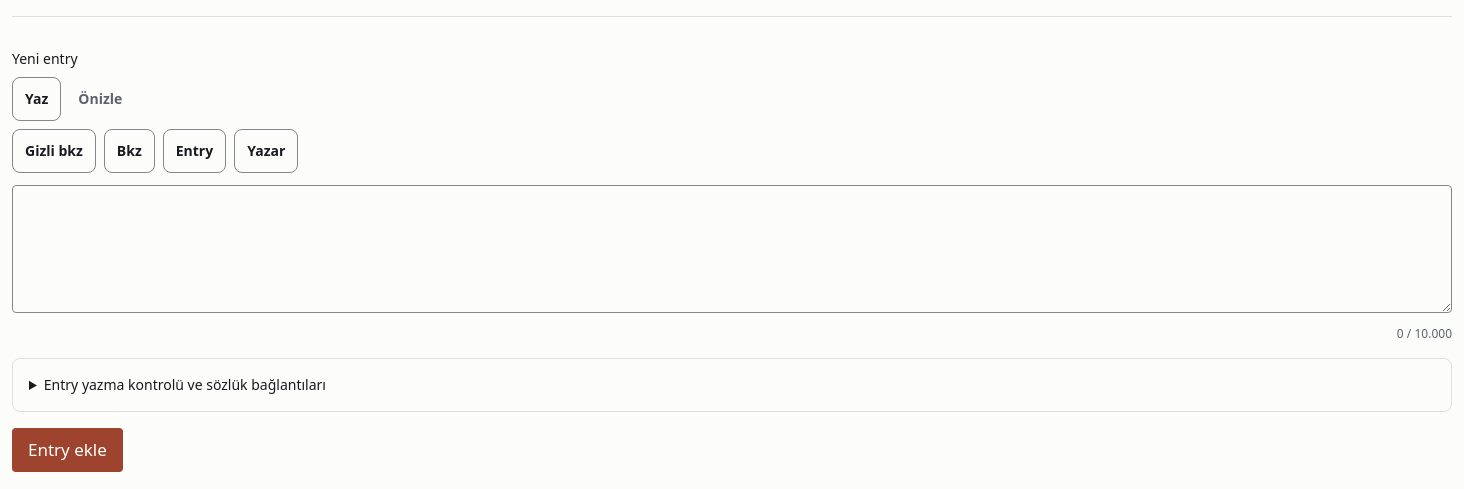
Scenario: composer önizleme render'ı › dört sözdizimini de istemcide çözümlenebildiği kadarıyla gösterir
Type "[ [açık kaynak]] ile (bkz: başka başlık) ve (bkz: #123) sonra @yazar ve https://example.com" into the text box labelled "Yeni entry" at (732, 249), box [12,185,1452,313]
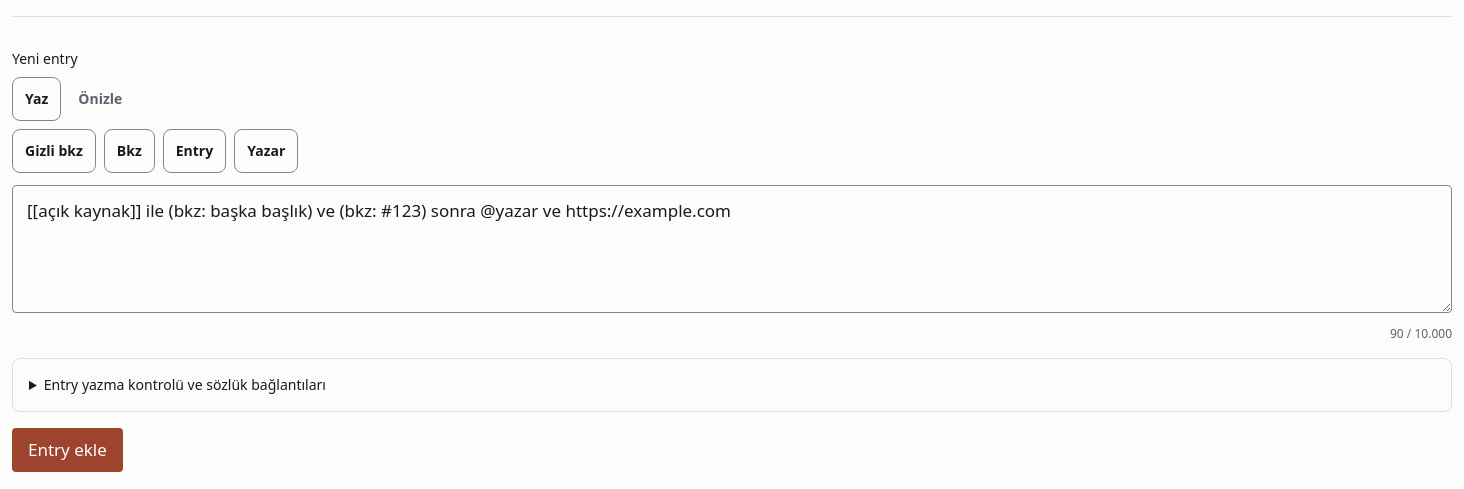
Click the tab "Önizle" at (100, 99), box [65,77,135,121]
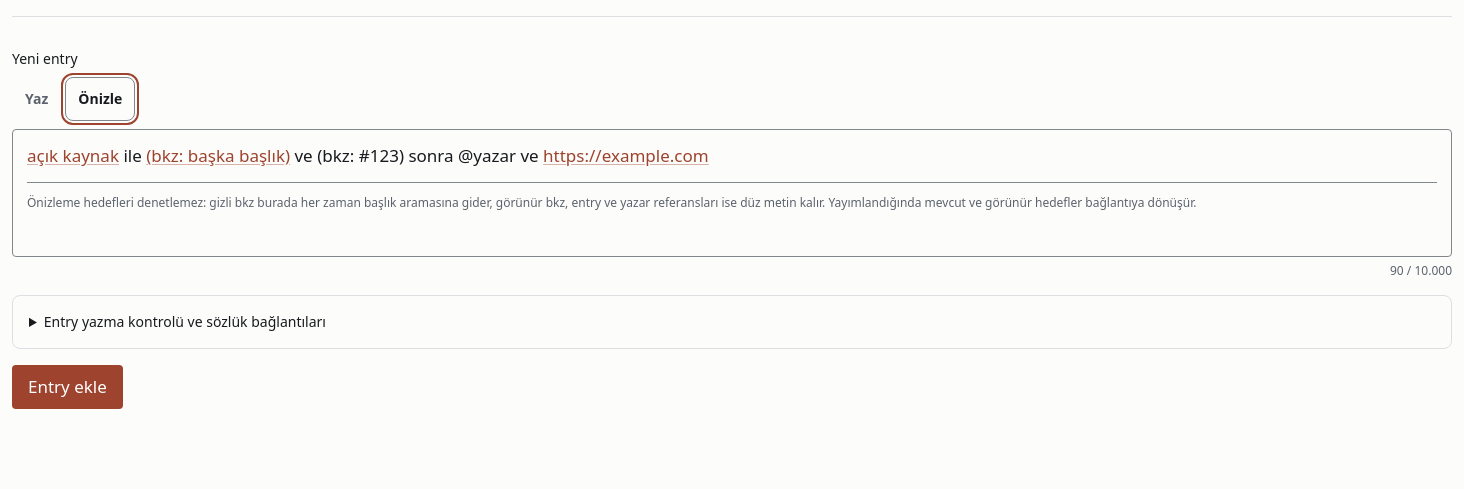
Check: the panel shows "(bkz: başka başlık)", box [146,144,290,167]
Check: the panel shows "(bkz: #123)", box [290,144,543,167]
Check: the panel shows "@yazar", box [290,144,543,167]
